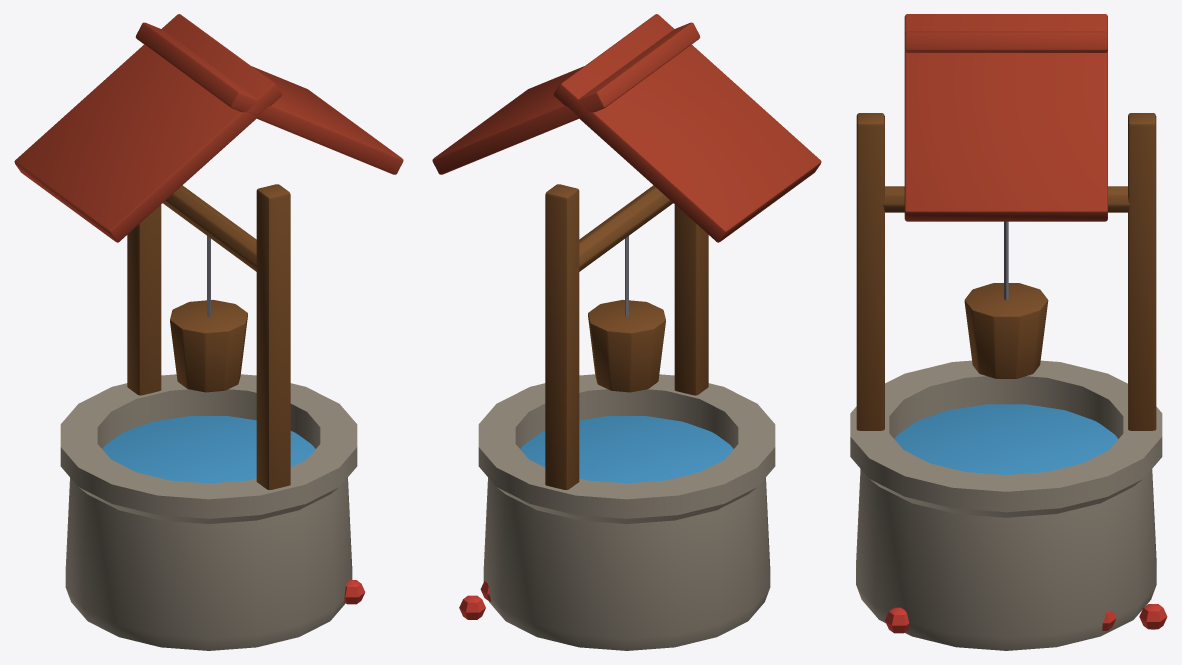
File: HeroOrchard.fbx
3 renders of one model, left to right at view 1: azimuth 30°, elevation 25°; view 2: azimuth 150°, elevation 25°; view 3: azimuth 270°, elevation 25°, orthographic. The views are drawn at different scales.
Parts seen in each view (by area): view 1: HeroOrchard; view 2: HeroOrchard; view 3: HeroOrchard.
Part boxes in pixels (x1,y1,x2,y2): HeroOrchard: (14, 14, 403, 650); HeroOrchard: (432, 14, 821, 650); HeroOrchard: (850, 14, 1167, 650).
Bounding box in the file's own units: 631 × 1104 × 561.
